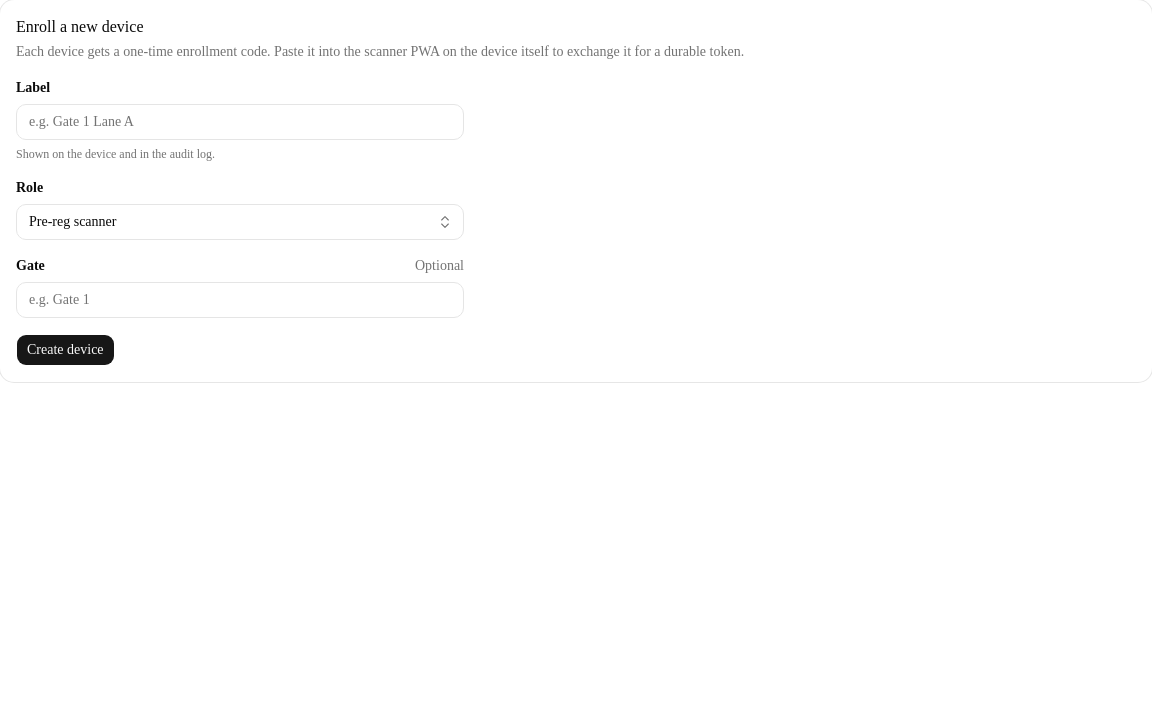
DeviceCreateForm error handling › shows the enrollment code with a copy button and no amber styling
Type "Gate A" into the field with placeholder "e.g. Gate 1 Lane A".
click(240, 122); type("Gate A")  # box [16,104,464,140]
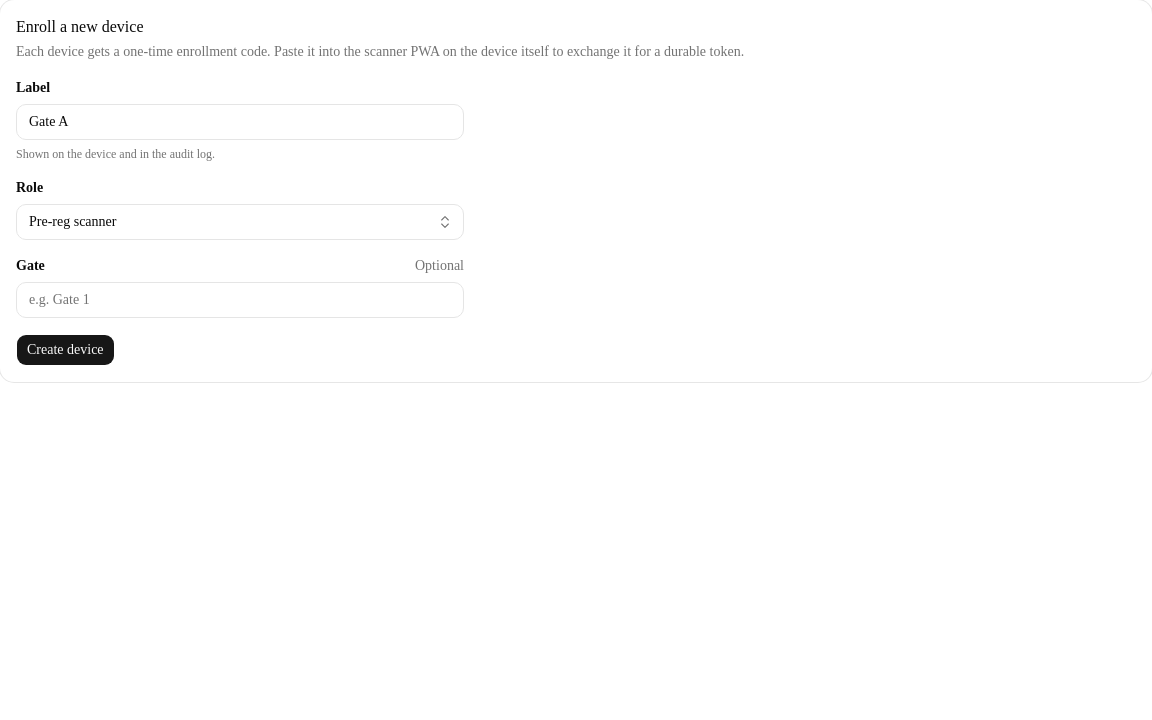
Click the button "Create device".
click(65, 350)  # box [16,334,115,366]
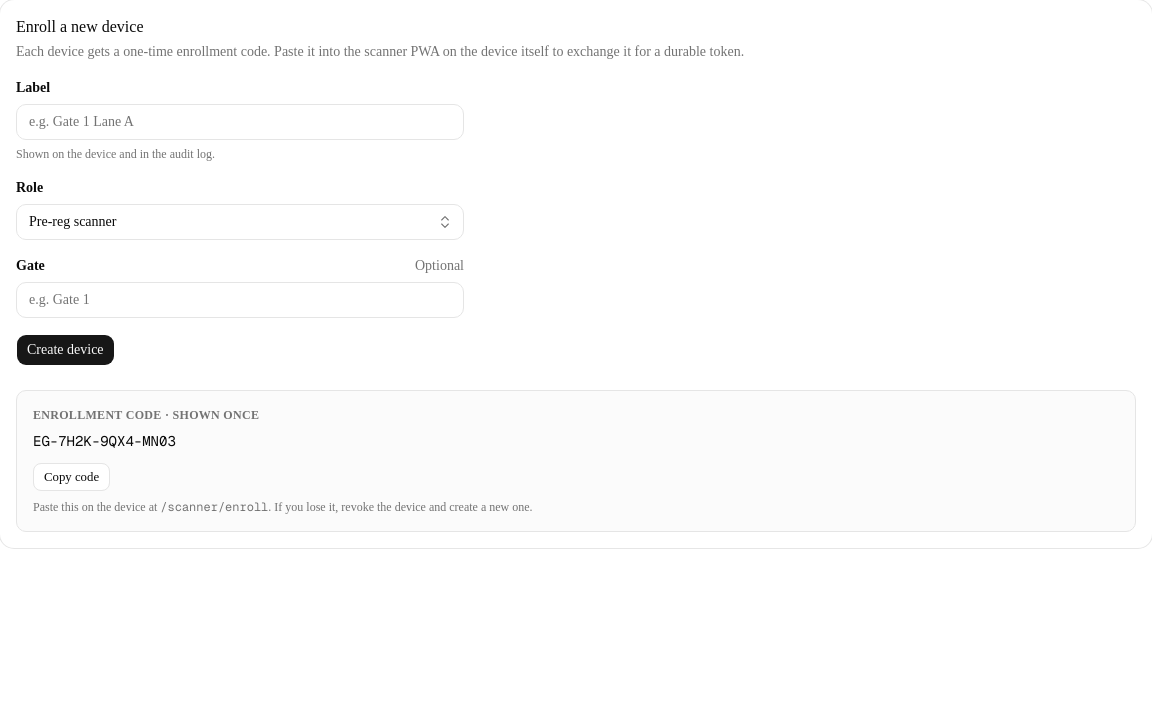
Check: the text "EG-7H2K-9QX4-MN03" is shown, box [33,432,176,450]
Check: the button "Copy code" is shown, box [33,463,110,491]
